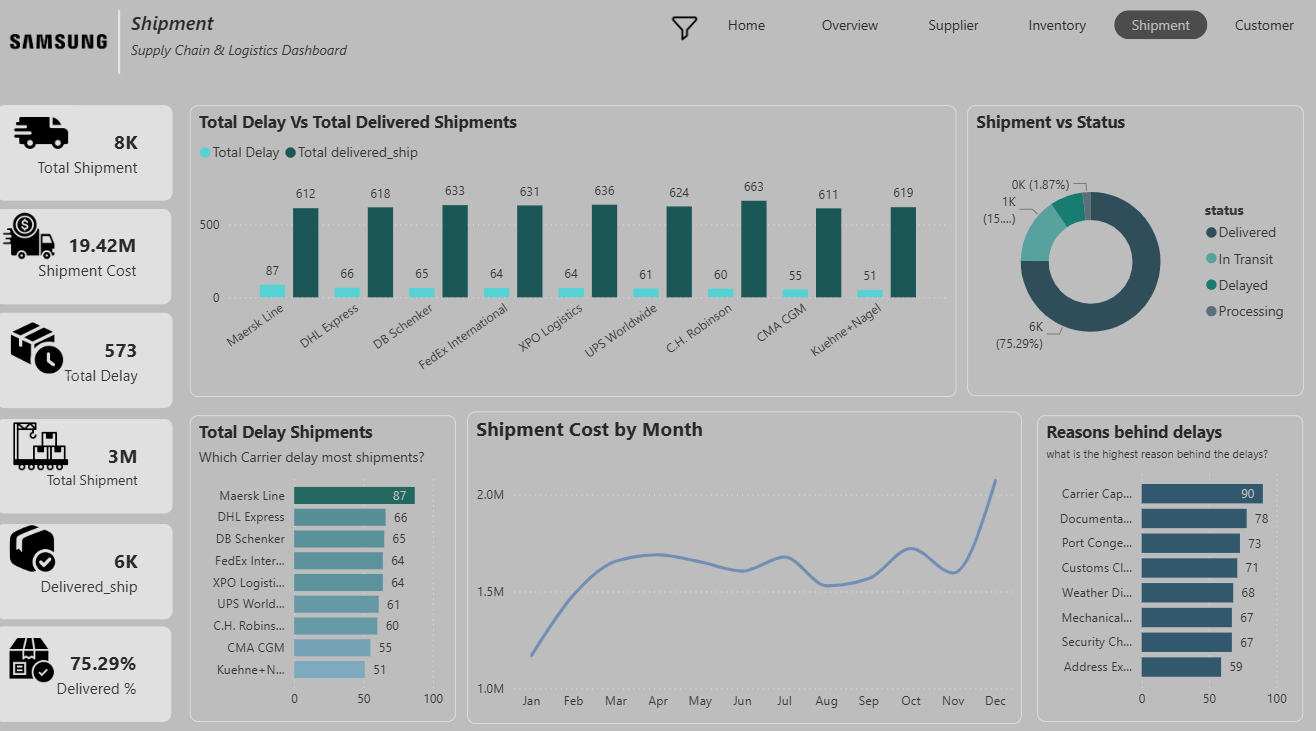

What the dashboard file says about the page in this screenshot:
{"tool":"powerbi","page":{"name":"Shipment","canvas":[1280,720],"ordinal":4},"visuals":[{"type":"shape","title":"Shipment","box":[135,18.8,210,62.5],"z":0},{"type":"shape","box":[53.8,20,138.8,61.2],"z":1000},{"type":"image","box":[11.2,8.8,103.8,83.8],"z":2000},{"type":"clusteredBarChart","title":"Total Delay Shipments","fields":{"Y":["Measures_Table.Total Delay"],"Category":["fact_shipment.carrier"]},"box":[191.9,411.2,256.8,295.8],"z":3000},{"type":"cardVisual","fields":{"Data":["measures_tbl.Shipment Cost"]},"box":[3.6,212.3,170.1,91.7],"z":4000},{"type":"cardVisual","fields":{"Data":["measures_tbl.Total Delay"]},"box":[4.8,312.5,170,92],"z":5000},{"type":"cardVisual","fields":{"Data":["measures_tbl.Total Shipment Quantity"]},"box":[4.3,415.5,170.2,90.9],"z":6000},{"type":"cardVisual","fields":{"Data":["measures_tbl.Total delivered_ship"]},"box":[4.8,516.4,170,92],"z":7000},{"type":"cardVisual","fields":{"Data":["measures_tbl.Total Shipment"]},"box":[4.8,112.2,170,92],"z":8000},{"type":"cardVisual","fields":{"Data":["measures_tbl.Total delivered %"]},"box":[3.6,615.3,170,92],"z":9000},{"type":"clusteredColumnChart","title":"Total Delay Vs Total Delivered  Shipments","fields":{"Y":["measures_tbl.Total Delay","measures_tbl.Total delivered_ship"],"Category":["fact_shipment.carrier"]},"box":[191.9,112.5,740.1,281.3],"z":10000},{"type":"lineChart","title":"Shipment Cost by Month","fields":{"Y":["measures_tbl.Shipment Cost"],"Category":["dim_date.Month_short"]},"box":[460.2,408.3,535.3,301.5],"z":11000},{"type":"clusteredBarChart","title":"Reasons behind delays","fields":{"Y":["Measures_Table.Total Delay"],"Category":["fact_shipment.delay_reason"]},"box":[1009.9,411.2,256.8,295.8],"z":12000},{"type":"donutChart","title":"Shipment vs  Status","fields":{"Y":["measures_tbl.Total Shipment"],"Category":["fact_shipment.status"]},"box":[942.2,112.2,324.5,281.1],"z":13000},{"type":"pageNavigator","box":[684,20.5,596,29],"z":14000},{"type":"image","box":[655.1,20.5,29,33.8],"z":15000},{"type":"image","box":[9.7,112.2,78.4,54.3],"z":16000},{"type":"image","box":[4.8,212.3,62.7,51.9],"z":17000},{"type":"image","box":[0,320.9,89.3,51.9],"z":18000},{"type":"image","box":[0,415,96.5,53.1],"z":19000},{"type":"image","box":[0,517.6,79.6,44.6],"z":20000},{"type":"image","box":[10.9,624.9,56.7,45.8],"z":21000}]}

Visuals, with their boxes in screenshot pixels (x1, y1, x2, y2), scaled from the page's 1280x720 canvas onto the 1316x731 screenshot:
"Shipment" shape: [x1=139, y1=19, x2=355, y2=83]
shape: [x1=55, y1=20, x2=198, y2=82]
image: [x1=12, y1=9, x2=118, y2=94]
"Total Delay Shipments" clusteredBarChart: [x1=197, y1=417, x2=461, y2=718]
cardVisual - measures_tbl.Shipment Cost: [x1=4, y1=216, x2=179, y2=309]
cardVisual - measures_tbl.Total Delay: [x1=5, y1=317, x2=180, y2=411]
cardVisual - measures_tbl.Total Shipment Quantity: [x1=4, y1=422, x2=179, y2=514]
cardVisual - measures_tbl.Total delivered_ship: [x1=5, y1=524, x2=180, y2=618]
cardVisual - measures_tbl.Total Shipment: [x1=5, y1=114, x2=180, y2=207]
cardVisual - measures_tbl.Total delivered %: [x1=4, y1=625, x2=178, y2=718]
"Total Delay Vs Total Delivered  Shipments" clusteredColumnChart: [x1=197, y1=114, x2=958, y2=400]
"Shipment Cost by Month" lineChart: [x1=473, y1=415, x2=1023, y2=721]
"Reasons behind delays" clusteredBarChart: [x1=1038, y1=417, x2=1302, y2=718]
"Shipment vs  Status" donutChart: [x1=969, y1=114, x2=1302, y2=399]
pageNavigator: [x1=703, y1=21, x2=1315, y2=50]
image: [x1=674, y1=21, x2=703, y2=55]
image: [x1=10, y1=114, x2=91, y2=169]
image: [x1=5, y1=216, x2=69, y2=268]
image: [x1=0, y1=326, x2=92, y2=378]
image: [x1=0, y1=421, x2=99, y2=475]
image: [x1=0, y1=526, x2=82, y2=571]
image: [x1=11, y1=634, x2=70, y2=681]
